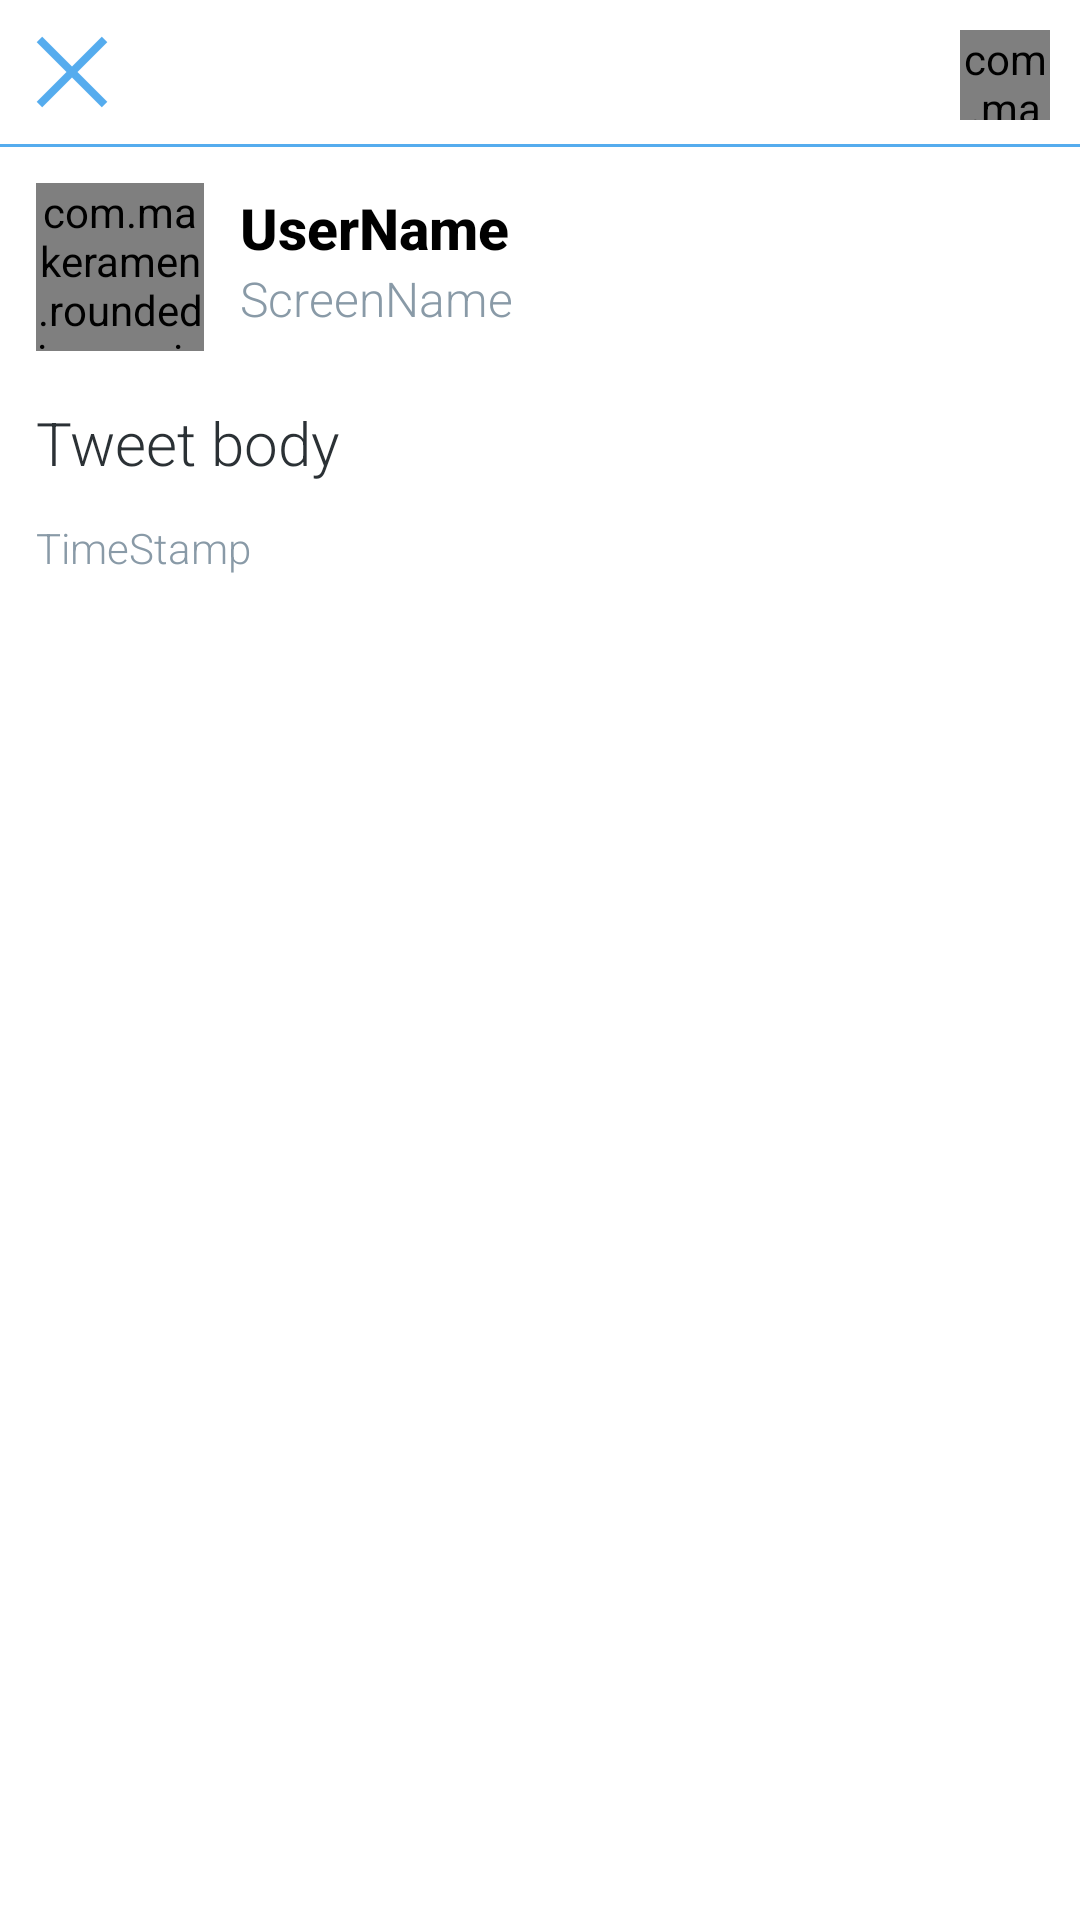

Screen size 1080×1920. Icon name, then its center in pixels as (x,y):
close: (72,72)
